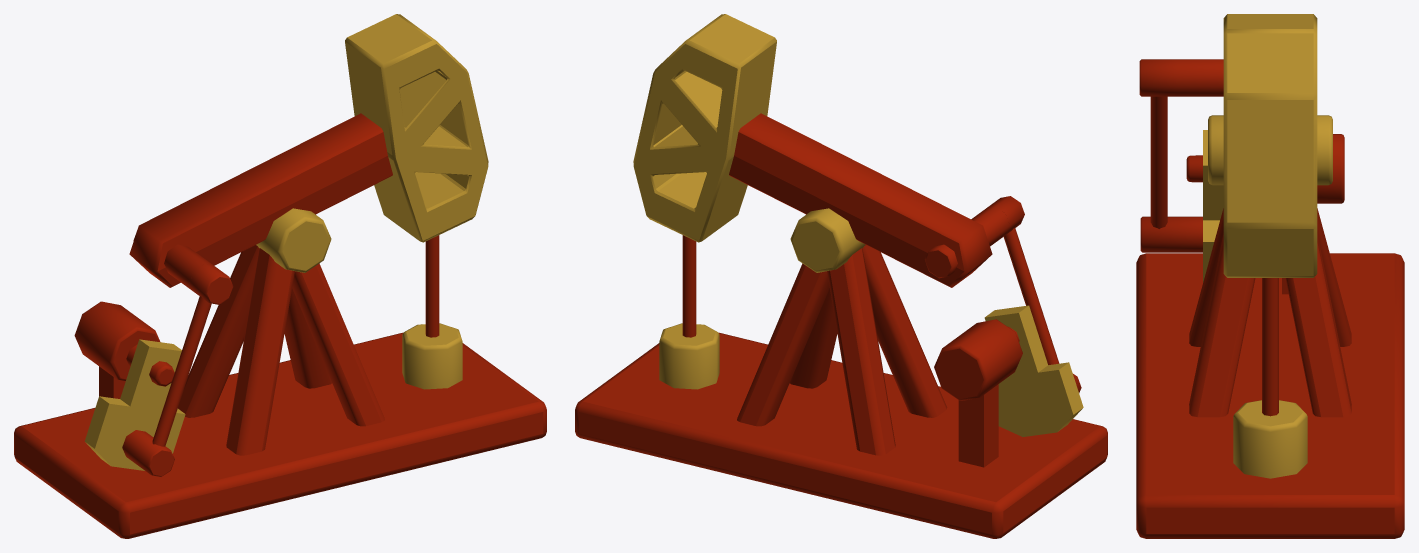
The model's file is Fuel Factory Top Fractured.fbx.
The picture shows the model from 3 angles, left to right: view 1: azimuth 30°, elevation 25°; view 2: azimuth 150°, elevation 25°; view 3: azimuth 270°, elevation 25°; orthographic projection. The views are drawn at different scales.
Visible parts, largest first — view 1: Fuel Factory Top Fracture.001, Fuel Factory Top Fracture.002, Fuel Factory Top Fracture, Fuel Factory Top Fracture.003; view 2: Fuel Factory Top Fracture.001, Fuel Factory Top Fracture.002, Fuel Factory Top Fracture, Fuel Factory Top Fracture.003; view 3: Fuel Factory Top Fracture.001, Fuel Factory Top Fracture, Fuel Factory Top Fracture.002, Fuel Factory Top Fracture.003.
Part boxes in pixels (<box>): Fuel Factory Top Fracture.001: <box>14,323,546,538</box>; Fuel Factory Top Fracture.002: <box>129,113,392,455</box>; Fuel Factory Top Fracture: <box>345,14,488,337</box>; Fuel Factory Top Fracture.003: <box>74,264,233,476</box>; Fuel Factory Top Fracture.001: <box>575,323,1107,538</box>; Fuel Factory Top Fracture.002: <box>729,113,1009,455</box>; Fuel Factory Top Fracture: <box>633,14,776,337</box>; Fuel Factory Top Fracture.003: <box>934,196,1083,467</box>; Fuel Factory Top Fracture.001: <box>1136,253,1404,538</box>; Fuel Factory Top Fracture: <box>1223,14,1317,416</box>; Fuel Factory Top Fracture.002: <box>1177,59,1351,417</box>; Fuel Factory Top Fracture.003: <box>1139,59,1344,294</box>.
Bounding box in the file's own units: 600 × 524 × 272.
